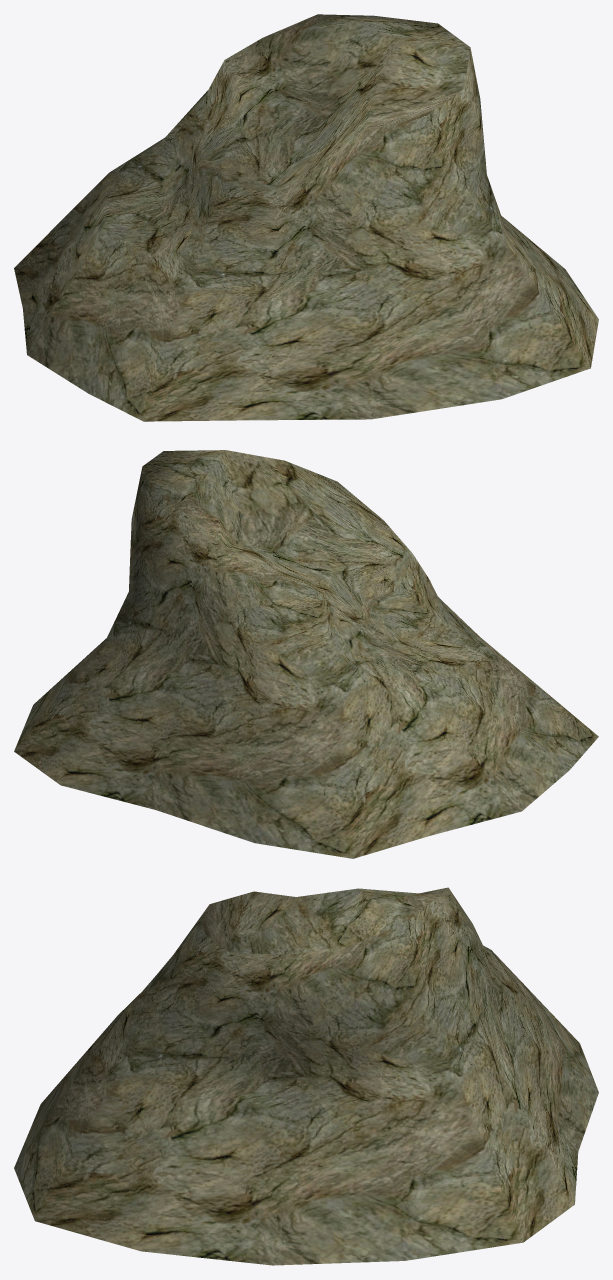
File: rock_plain_white_a1_l0.fbx
3 renders of one model, top to bottom at view 1: azimuth 30°, elevation 25°; view 2: azimuth 150°, elevation 25°; view 3: azimuth 270°, elevation 25°, orthographic. The views are drawn at different scales.
Parts seen in each view (by area): view 1: mesh_node; view 2: mesh_node; view 3: mesh_node.
Part boxes in pixels (box(x1,y1,x2,y2)): mesh_node: box(14, 14, 598, 421); mesh_node: box(14, 450, 598, 858); mesh_node: box(14, 887, 598, 1265).
Bounding box in the file's own units: 5.19 × 2.62 × 4.84.
